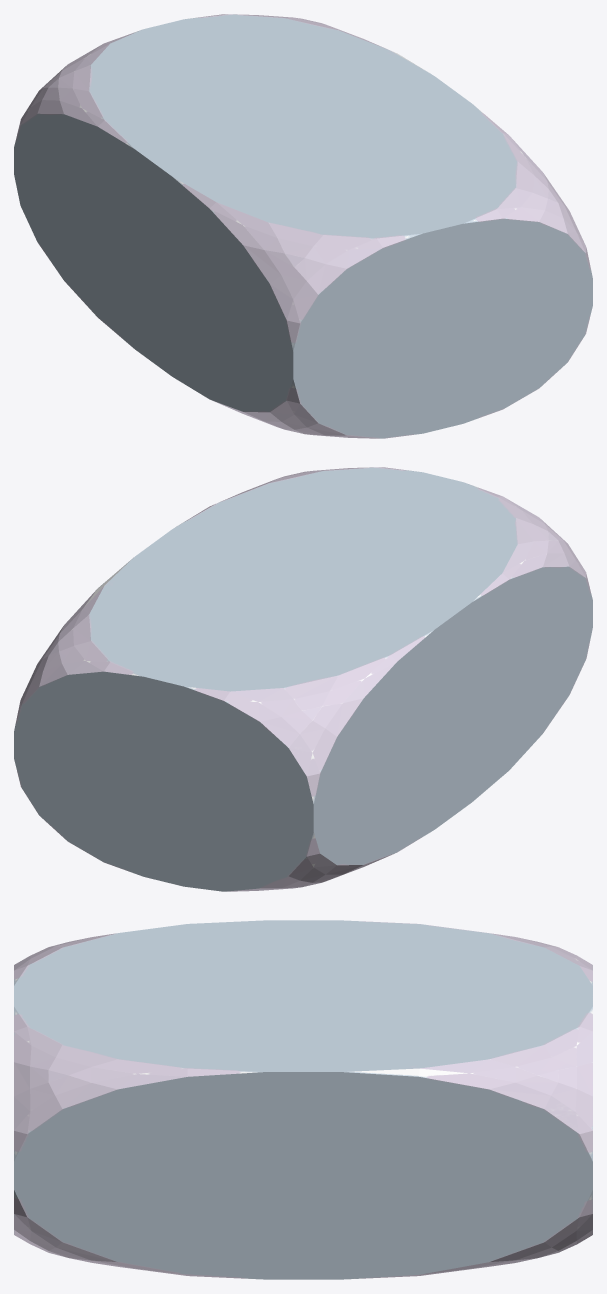
Rendered from powerNBullet.obj.
The picture shows the model from 3 angles, top to bottom: view 1: azimuth 30°, elevation 25°; view 2: azimuth 150°, elevation 25°; view 3: azimuth 270°, elevation 25°; orthographic projection. The views are drawn at different scales.
Visible parts, largest first — view 1: 立方体; view 2: 立方体; view 3: 立方体.
Part boxes in pixels (x1,y1,x2,y2): 立方体: [14, 14, 592, 438]; 立方体: [14, 467, 592, 891]; 立方体: [14, 920, 592, 1279].
Size of the model in its own units: 0.17 by 0.1085 by 0.2744.
1 material, 1 textured.
